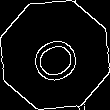O_NE: (22, 24, 88, 86)
